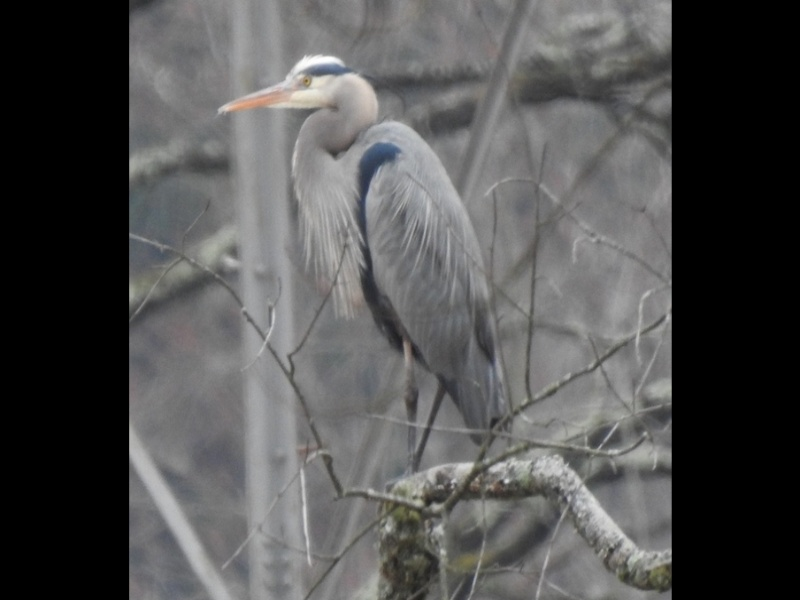heron: (215, 49, 516, 484)
